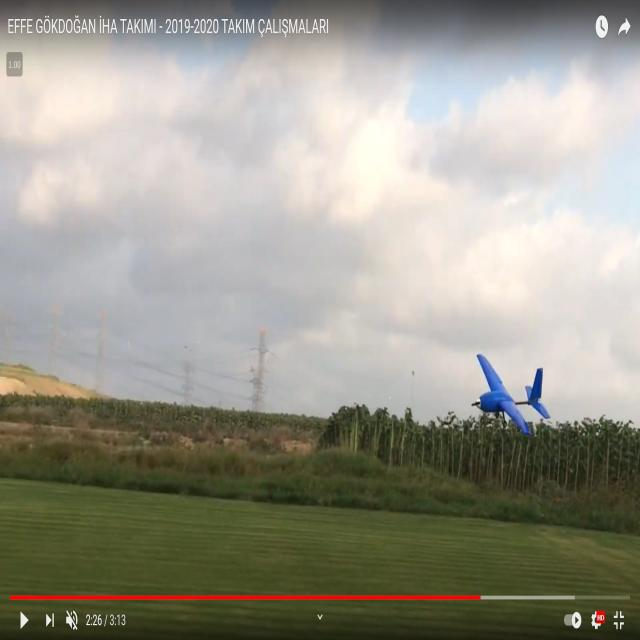iha: (503, 378, 518, 400)
